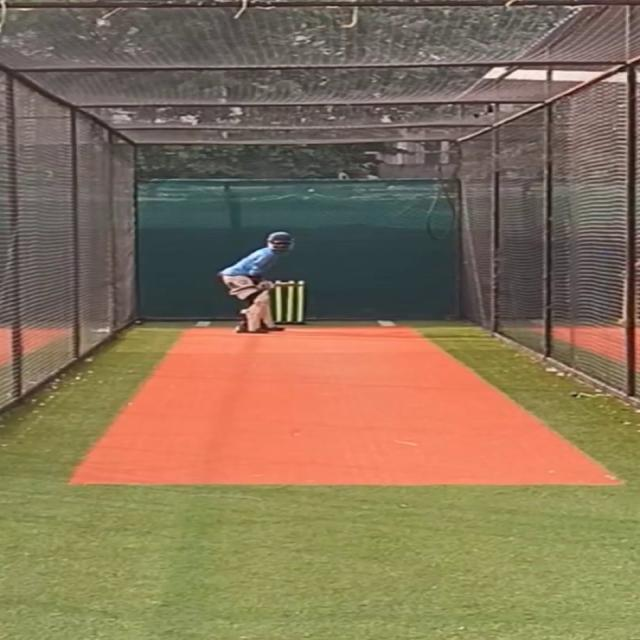stump: (273, 280, 309, 325)
